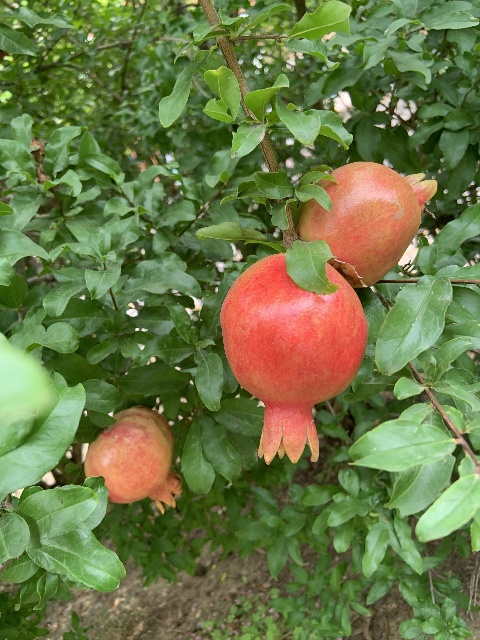ripe: (220, 252, 367, 466), (294, 161, 430, 287), (84, 406, 182, 513)
